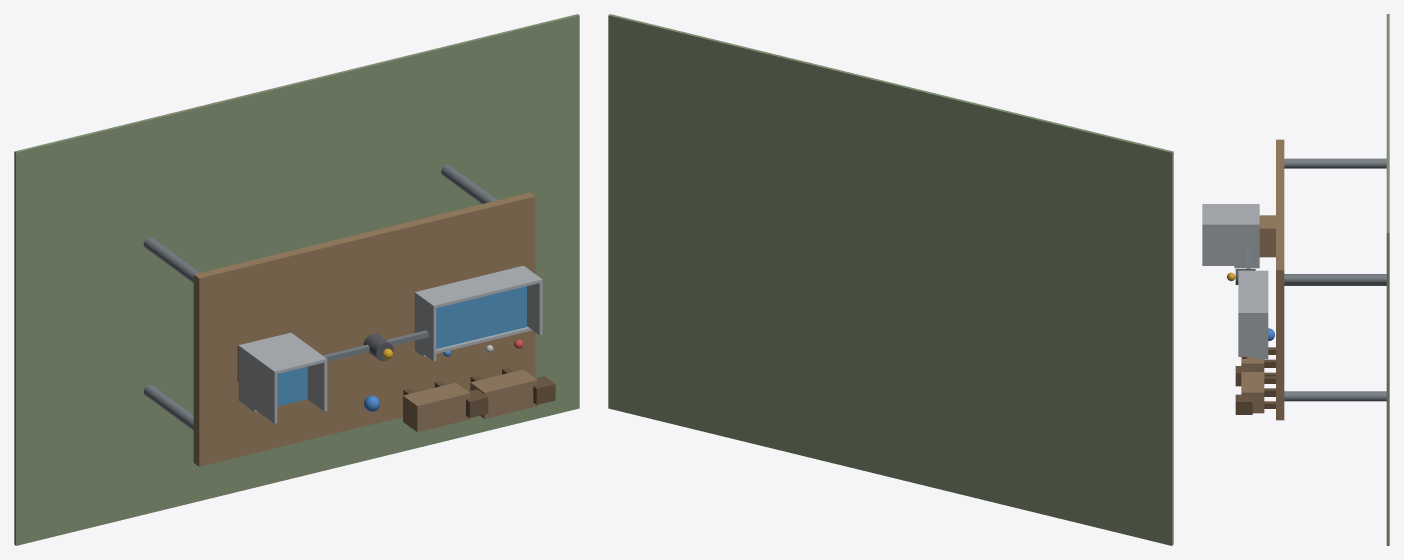
File: system_assembly.glb
The picture shows the model from 3 angles, left to right: view 1: azimuth 30°, elevation 25°; view 2: azimuth 150°, elevation 25°; view 3: azimuth 270°, elevation 25°; orthographic projection. The views are drawn at different scales.
Visible parts, largest first — view 1: part_0, part_1, part_18, part_27, part_15, part_33, part_10, part_8, part_13, part_17, part_9, part_3 (+4 smaller); view 2: part_0; view 3: part_1, part_0, part_9, part_15, part_10, part_14, part_3, part_4, part_5, part_33, part_6, part_12 (+2 smaller).
Part boxes in pixels (x1,y1,x2,y2): part_0: [14, 14, 579, 545]; part_1: [193, 192, 535, 466]; part_18: [436, 286, 526, 348]; part_27: [403, 382, 470, 432]; part_15: [416, 267, 542, 308]; part_33: [470, 369, 537, 418]; part_10: [240, 334, 327, 374]; part_8: [240, 350, 277, 423]; part_13: [416, 296, 436, 361]; part_17: [277, 366, 307, 406]; part_9: [307, 362, 327, 411]; part_3: [143, 237, 199, 283]; part_0: [608, 14, 1173, 545]; part_1: [1276, 139, 1284, 420]; part_0: [1386, 14, 1389, 545]; part_9: [1202, 227, 1256, 265]; part_15: [1238, 270, 1265, 315]; part_10: [1202, 204, 1256, 226]; part_14: [1238, 315, 1265, 356]; part_3: [1284, 158, 1386, 168]; part_4: [1284, 391, 1386, 401]; part_5: [1284, 274, 1386, 283]; part_33: [1241, 372, 1264, 413]; part_6: [1259, 215, 1275, 257]; part_12: [1265, 270, 1268, 359].
Size of the model in its own units: 3600 by 2400 by 1300.
